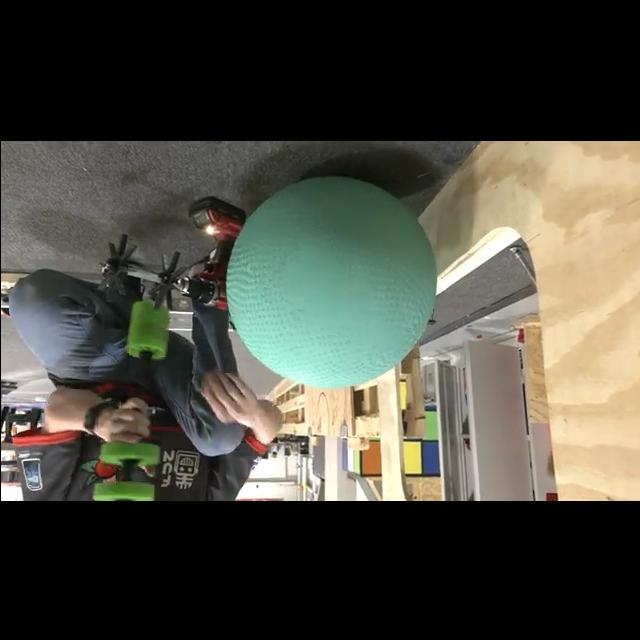ALGAE: (224, 174, 438, 390)
